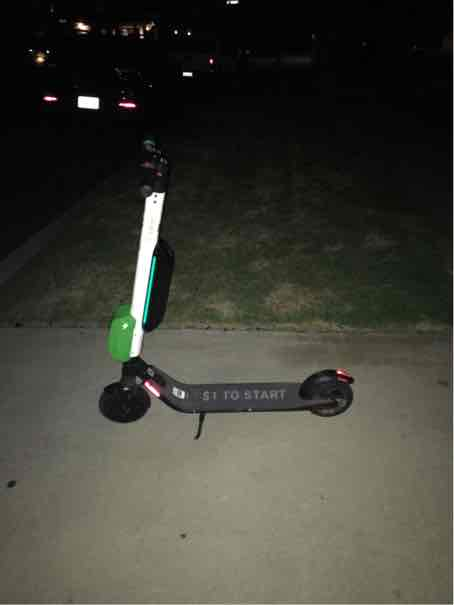scooter: (95, 123, 361, 419)
